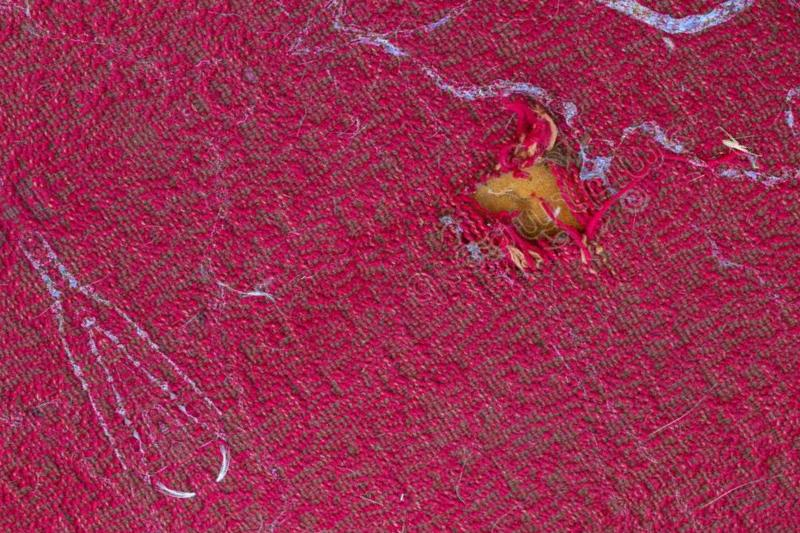hole: (443, 151, 609, 257)
